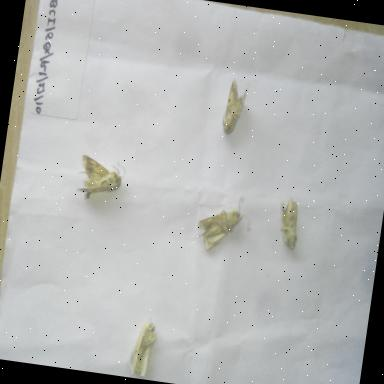abw: (192, 188, 256, 260), (118, 312, 168, 381), (72, 149, 130, 208), (212, 69, 254, 143), (268, 193, 312, 257)
